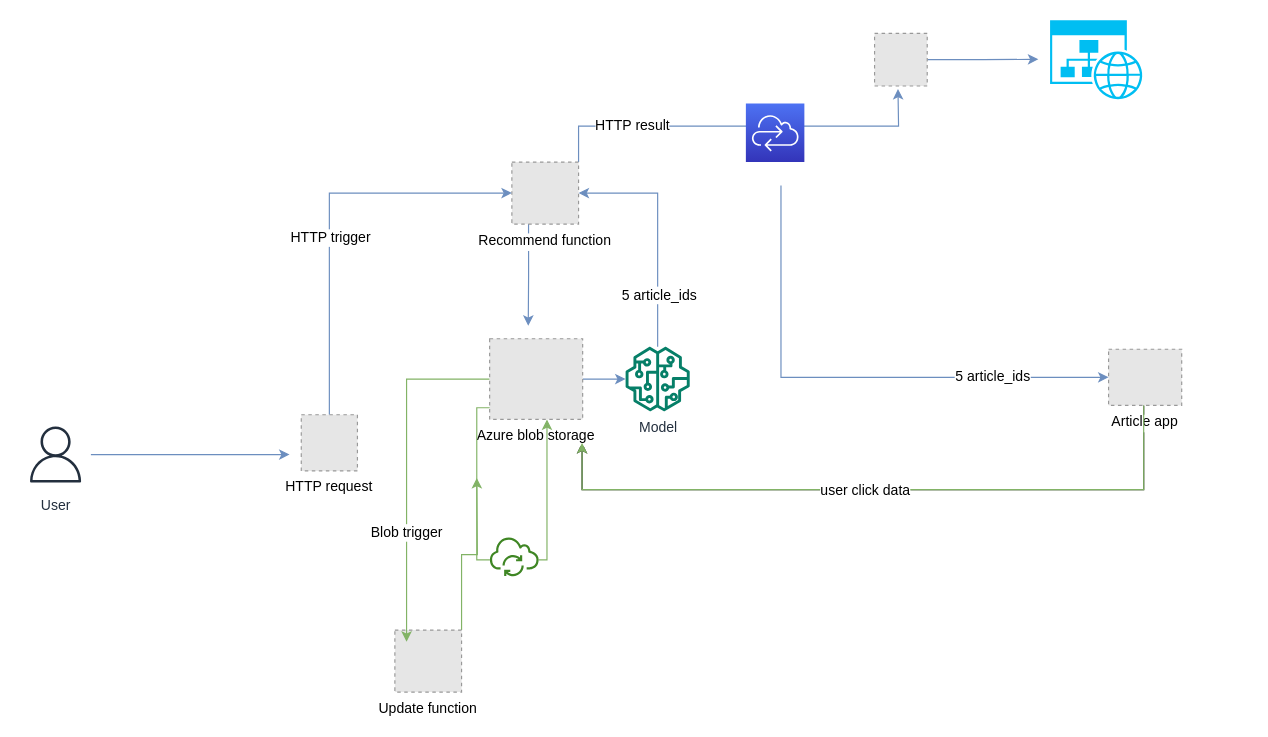
The diagram is 1268 pixels wide and 737 high, and some of its shapes have lost their labels. Grey dashed boxes stand in for pictures. The box of each missing label's shape, as (x1, y1, x2, y2) in pixels:
API: (745, 102, 804, 162)
https://recommendations.streamlit.app/: (1049, 20, 1143, 99)
update: user_item_matrix model: (489, 536, 538, 576)
